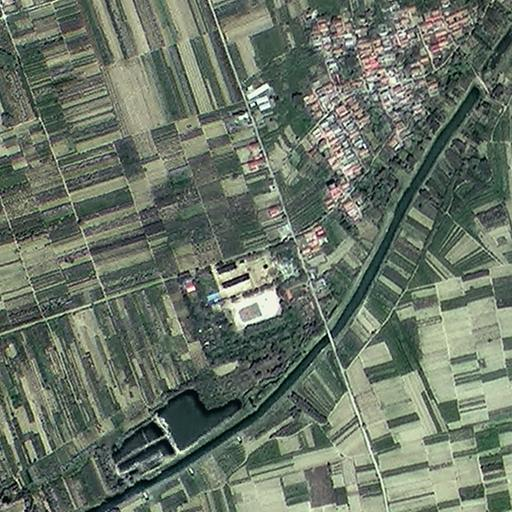school: (215, 245, 282, 332)
